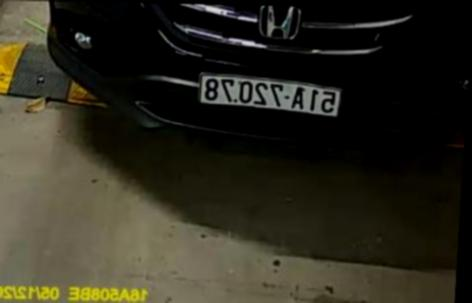License_Plate: (191, 71, 350, 124)
